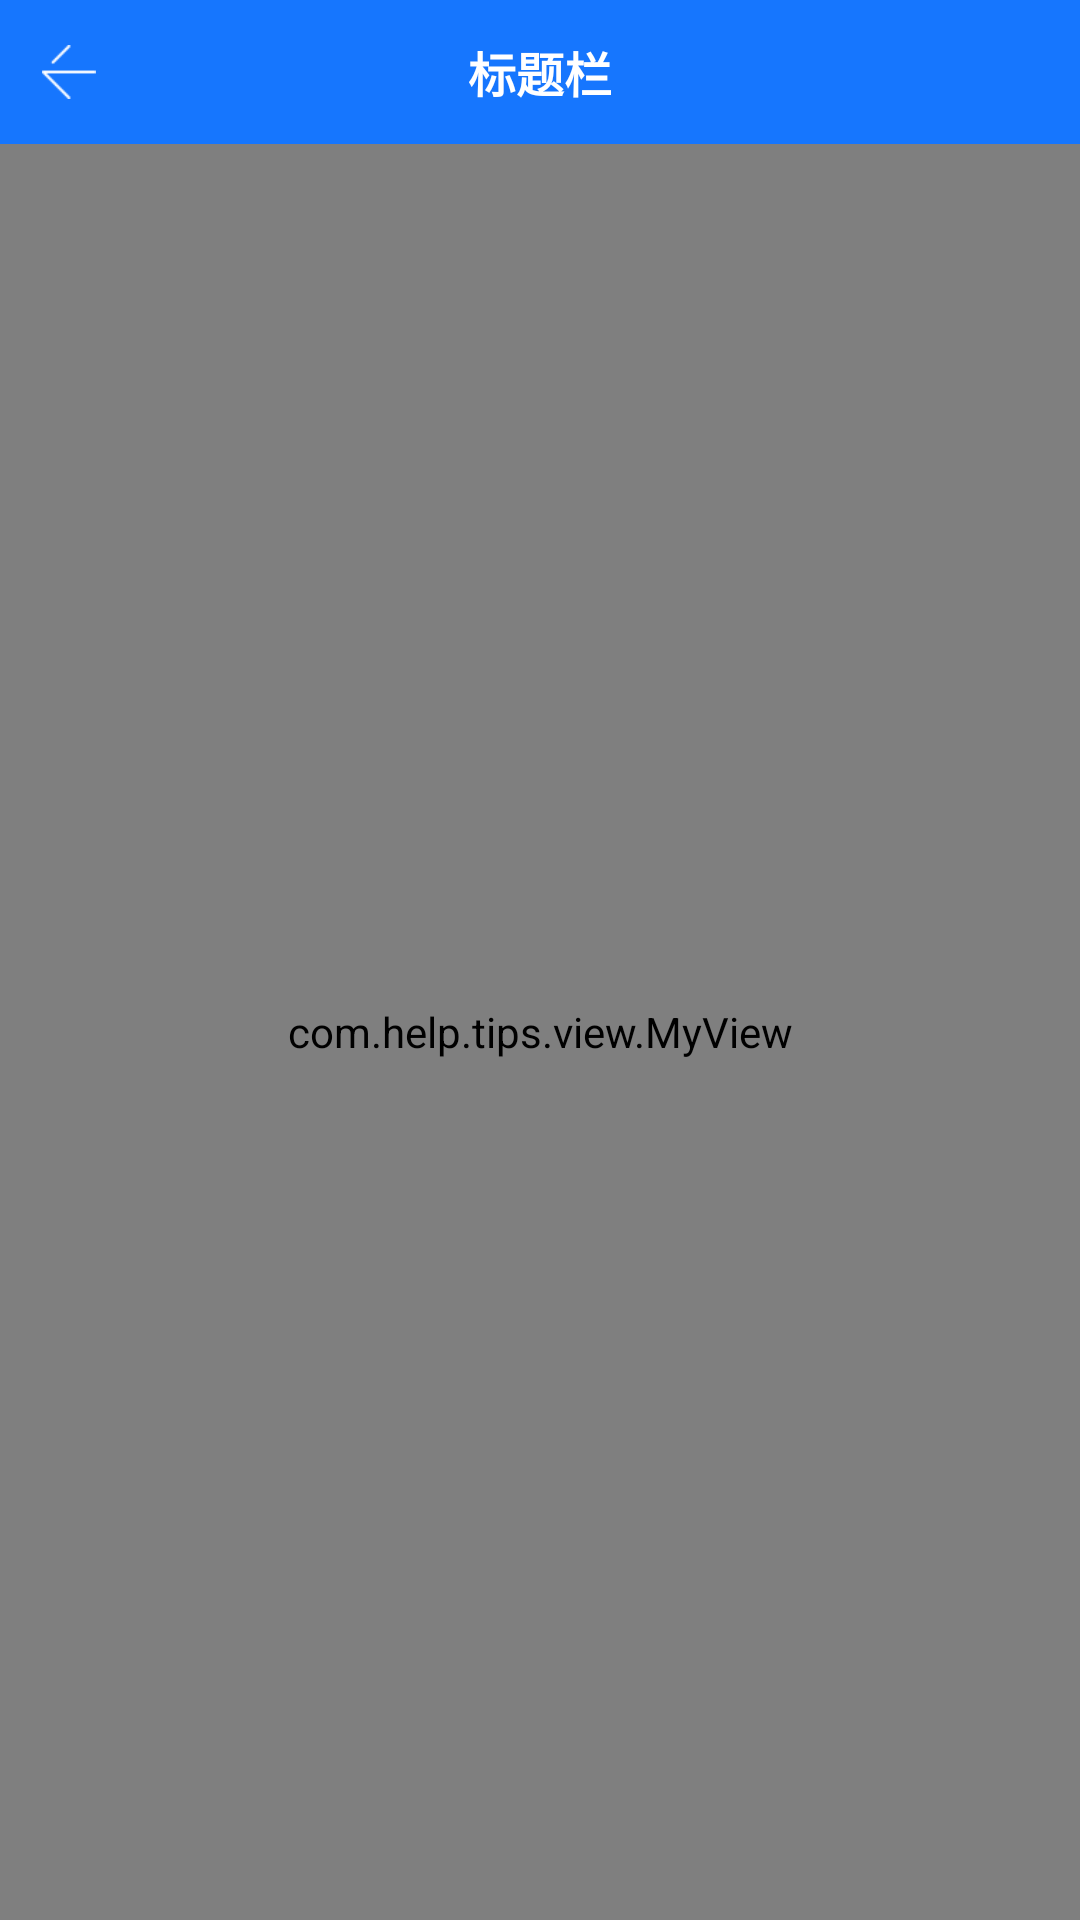

Point at icon controls on the screen. Image size 1080*1920, points as (x,y).
base back: (69,72)
